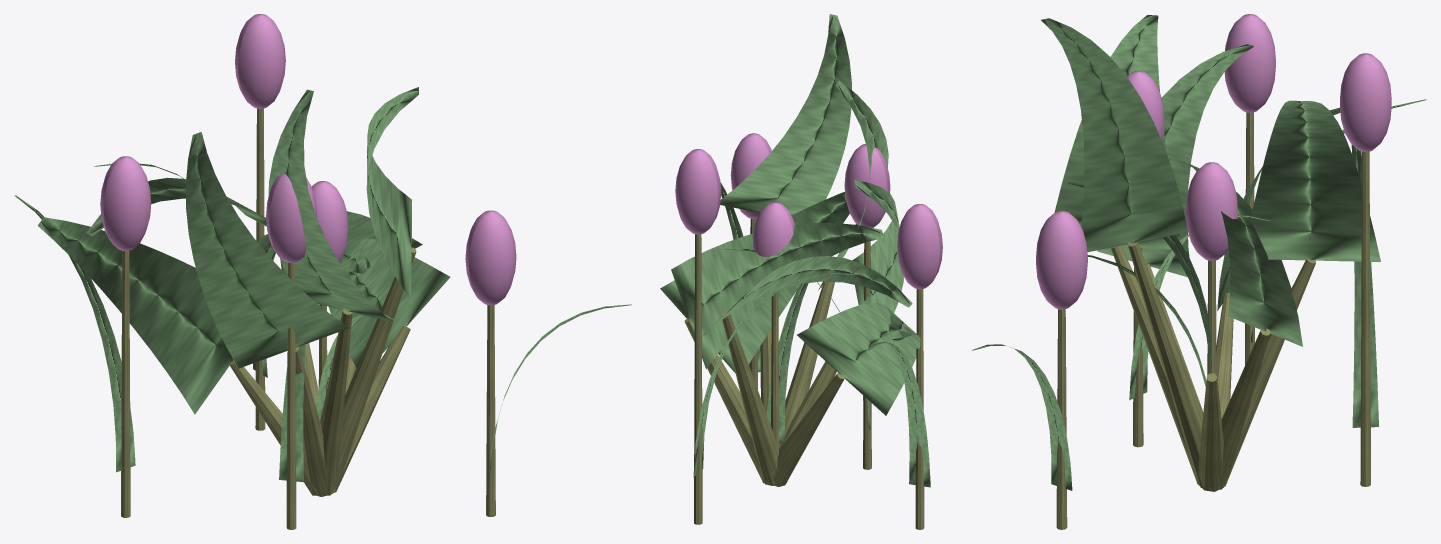
Rendered from pickerelweed_clump_swamp_and_mangrove_22633.glb.
3 renders of one model, left to right at view 1: azimuth 30°, elevation 25°; view 2: azimuth 150°, elevation 25°; view 3: azimuth 270°, elevation 25°, orthographic. The views are drawn at different scales.
Visible parts, largest first — view 1: pickerelweed; view 2: pickerelweed; view 3: pickerelweed.
Part boxes in pixels (x1,y1,x2,y2): pickerelweed: (14,14,631,529); pickerelweed: (660,14,942,529); pickerelweed: (971,14,1426,529).
Size of the model in its own units: 1.09 by 1.19 by 1.03.
Materials: 3 (2 with a texture image).
